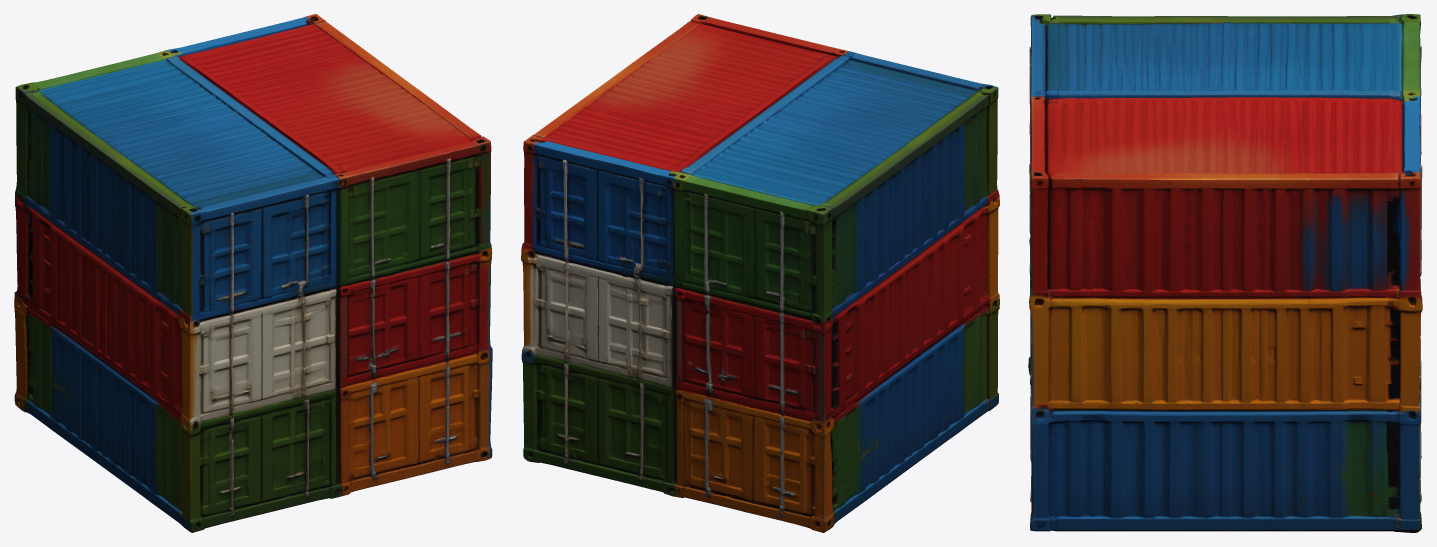
The model's file is hp_container_stack__retry.glb.
3 views of the same model, side by side, from view 1: azimuth 30°, elevation 25°; view 2: azimuth 150°, elevation 25°; view 3: azimuth 270°, elevation 25° (orthographic). The views are drawn at different scales.
Parts seen in each view (by area): view 1: world; view 2: world; view 3: world.
Boxes of the visible parts, bbox=[...] form: world: bbox=[14, 14, 492, 532]; world: bbox=[521, 14, 999, 532]; world: bbox=[1028, 14, 1422, 532].
Bounding box in the file's own units: 0.9897 × 0.9997 × 0.998.
Materials: 1 (1 with a texture image).
